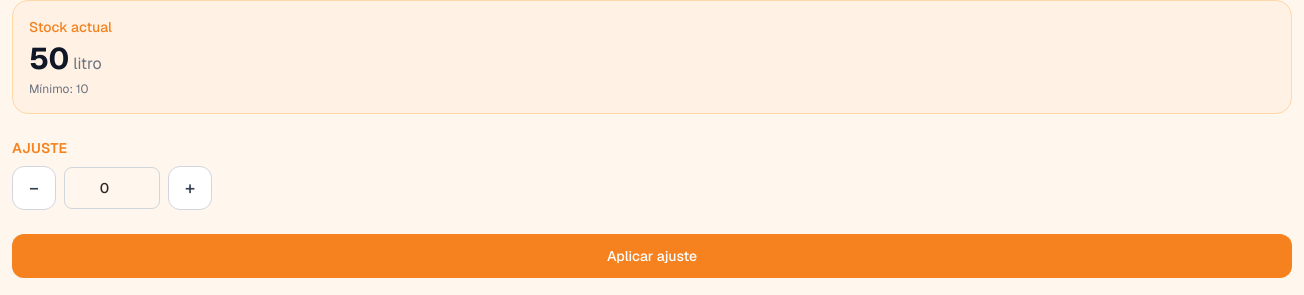
Test: StockAdjustForm — button interaction › accumulates clicks: clicking + three times gives delta = 3
The width and height of the screenshot is (1304, 295).
Click the button named "Aumentar stock": x=190, y=188 [168,166,212,210]
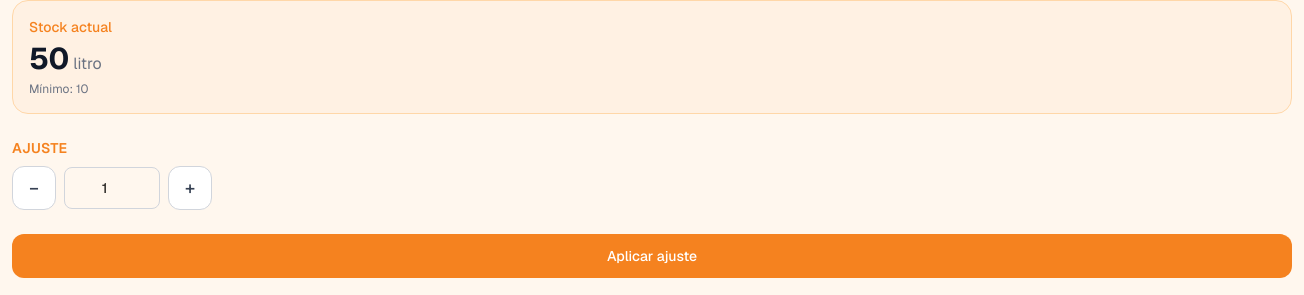
Click the button named "Aumentar stock": x=190, y=188 [168,166,212,210]
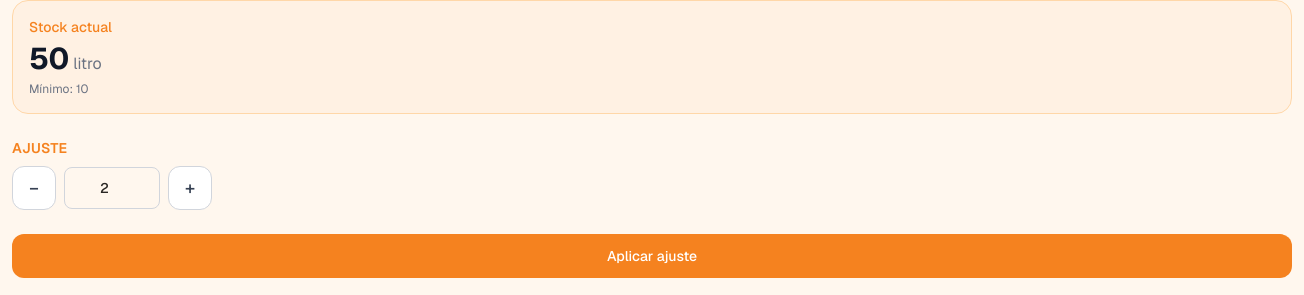
Click the button named "Aumentar stock": x=190, y=188 [168,166,212,210]
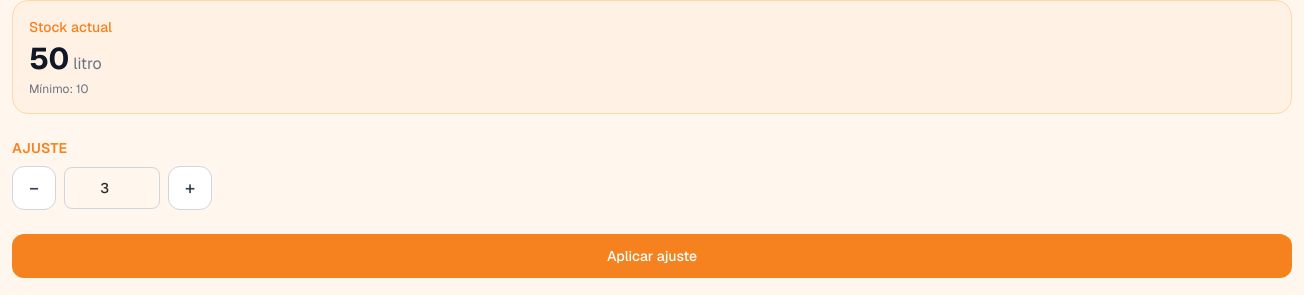
Check: the number field labelled "Ajuste" holds "3", box [64,167,160,209]
